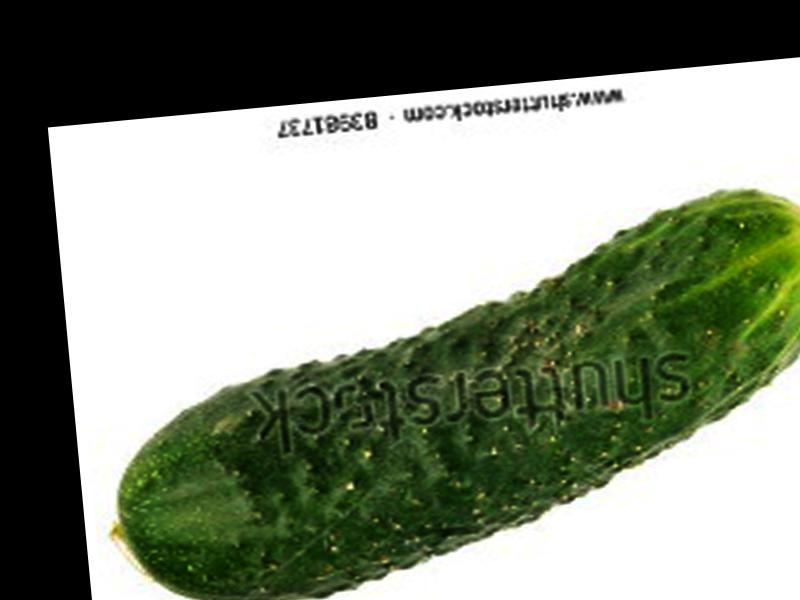Cucumber: (90, 184, 800, 600)
